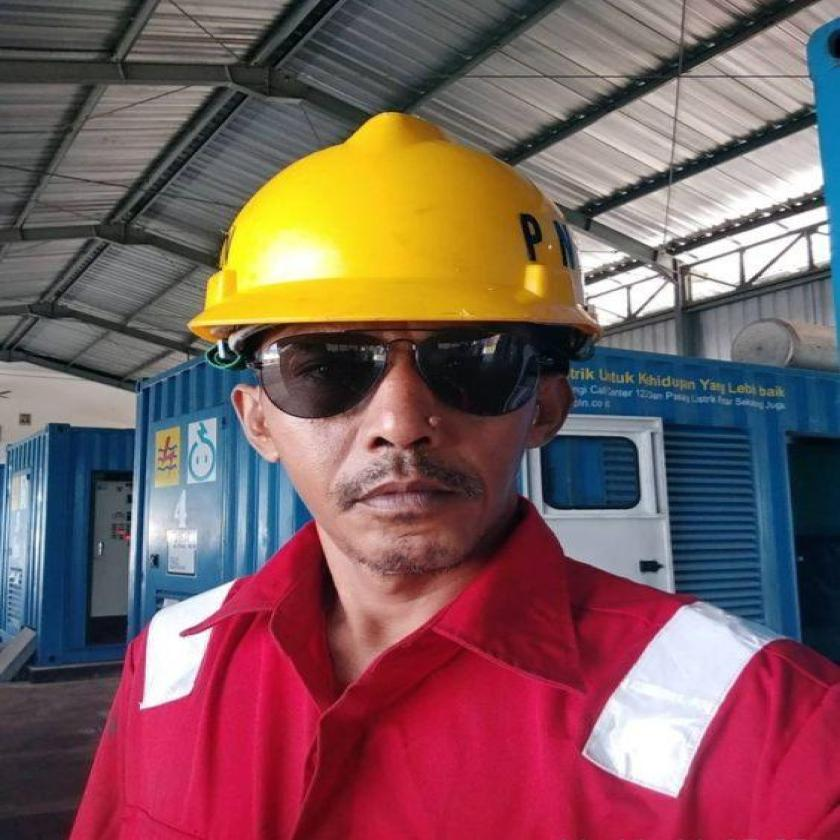Con_casco: (200, 116, 610, 580)
